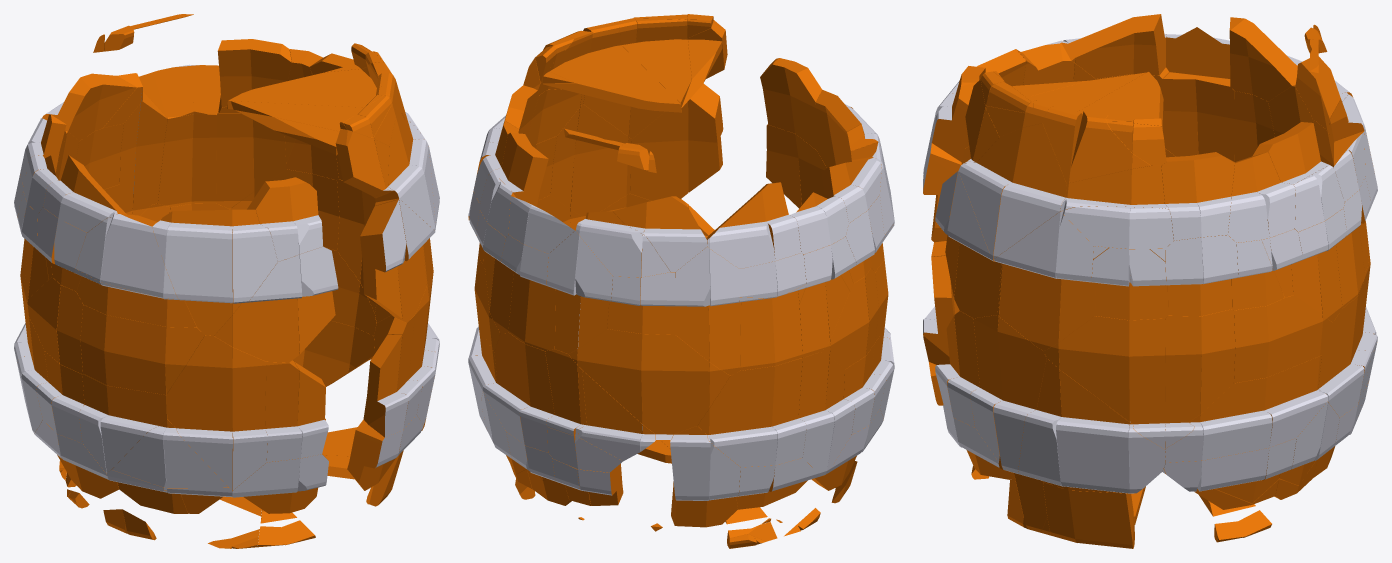
File: DestoyedBarrel.fbx
3 views of the same model, side by side, from view 1: azimuth 30°, elevation 25°; view 2: azimuth 150°, elevation 25°; view 3: azimuth 270°, elevation 25° (orthographic). The views are drawn at different scales.
Visible parts, largest first — view 1: Barrel.001_cell.129, Barrel.001_cell.122, Barrel.001_cell.062, Barrel.001_cell.032, Barrel.001_cell.087, Barrel.001_cell.127, Barrel.001_cell.144, Barrel.001_cell.114, Barrel.001_cell.131, Barrel.001_cell.042, Barrel.001_cell.057, Barrel.001_cell.085 (+49 smaller); view 2: Barrel.001_cell.017, Barrel.001_cell.100, Barrel.001_cell.087, Barrel.001_cell.117, Barrel.001_cell.089, Barrel.001_cell.098, Barrel.001_cell.113, Barrel.001_cell.009, Barrel.001_cell.026, Barrel.001_cell.078, Barrel.001_cell.042, Barrel.001_cell.060 (+51 smaller); view 3: Barrel.001_cell.016, Barrel.001_cell.089, Barrel.001_cell.147, Barrel.001_cell.111, Barrel.001_cell.037, Barrel.001_cell.051, Barrel.001_cell.134, Barrel.001_cell.102, Barrel.001_cell.073, Barrel.001_cell.087, Barrel.001_cell.092, Barrel.001_cell.013 (+45 smaller).
Part boxes in pixels (box(x1,y1,x2,y2)): Barrel.001_cell.129: box(166, 335, 267, 489); Barrel.001_cell.122: box(152, 209, 277, 335); Barrel.001_cell.062: box(232, 246, 338, 362); Barrel.001_cell.032: box(80, 304, 204, 394); Barrel.001_cell.087: box(360, 198, 435, 322); Barrel.001_cell.127: box(75, 214, 177, 299); Barrel.001_cell.144: box(265, 360, 328, 462); Barrel.001_cell.114: box(79, 374, 167, 472); Barrel.001_cell.131: box(216, 112, 286, 208); Barrel.001_cell.042: box(157, 113, 216, 206); Barrel.001_cell.057: box(363, 315, 421, 437); Barrel.001_cell.085: box(247, 177, 322, 261); Barrel.001_cell.017: box(568, 329, 730, 439); Barrel.001_cell.100: box(697, 358, 806, 467); Barrel.001_cell.087: box(630, 83, 723, 200); Barrel.001_cell.117: box(675, 235, 741, 375); Barrel.001_cell.089: box(550, 104, 631, 218); Barrel.001_cell.098: box(547, 230, 612, 353); Barrel.001_cell.113: box(483, 333, 554, 452); Barrel.001_cell.009: box(706, 182, 801, 268); Barrel.001_cell.026: box(798, 352, 854, 475); Barrel.001_cell.078: box(543, 45, 681, 112); Barrel.001_cell.042: box(501, 235, 555, 350); Barrel.001_cell.060: box(799, 237, 856, 357); Barrel.001_cell.016: box(1018, 358, 1165, 493); Barrel.001_cell.089: box(993, 210, 1095, 351); Barrel.001_cell.147: box(1043, 316, 1165, 449); Barrel.001_cell.111: box(1165, 355, 1327, 462); Barrel.001_cell.037: box(958, 123, 1066, 259); Barrel.001_cell.051: box(970, 315, 1046, 473); Barrel.001_cell.134: box(1165, 309, 1235, 448); Barrel.001_cell.102: box(1234, 295, 1332, 383); Barrel.001_cell.073: box(1160, 72, 1234, 162); Barrel.001_cell.087: box(935, 171, 1001, 318); Barrel.001_cell.092: box(1161, 152, 1234, 240); Barrel.001_cell.013: box(1165, 235, 1238, 316).
Bounding box in the file's own units: 615 × 637 × 615.
